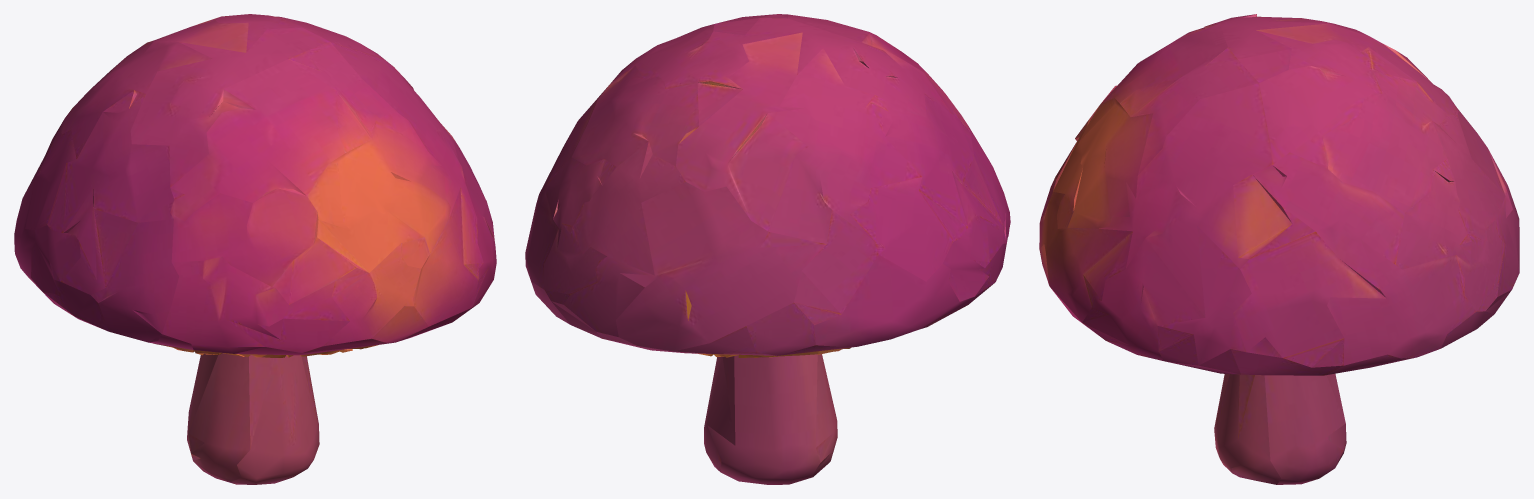
The model's file is cogumelo_gigante.glb.
3 views of the same model, side by side, from view 1: azimuth 30°, elevation 25°; view 2: azimuth 150°, elevation 25°; view 3: azimuth 270°, elevation 25° (orthographic).
Size of the model in its own units: 1.9 by 1.87 by 1.89.
1 material, 1 textured.
